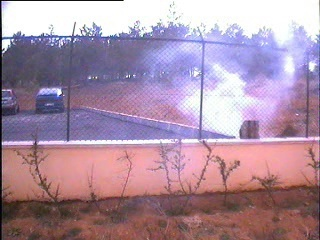smoke: (153, 22, 298, 139)
